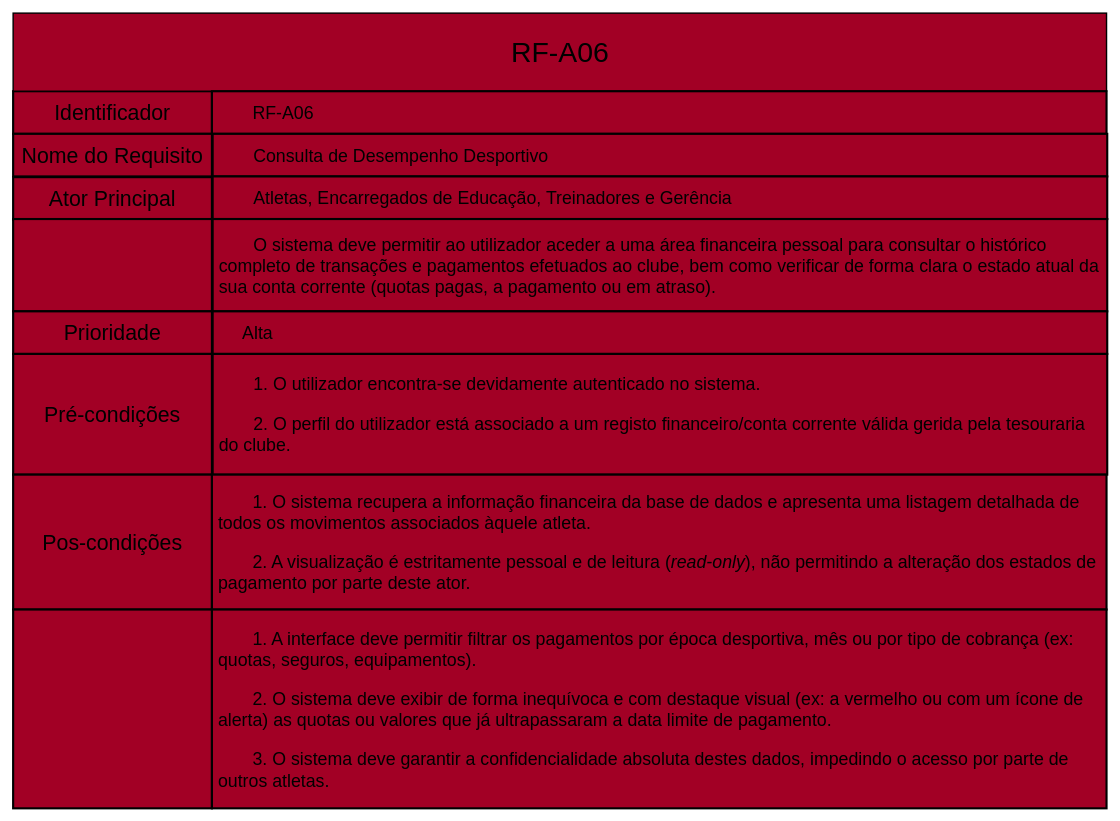
Some shapes in this 1120 by 821 pixel diagram are drawn without their labels. The box of each missing label's shape, as (x1, y1, x2, y2) in pixels:
Critérios de Aceitação: (12, 608, 213, 809)
Descrição: (12, 218, 213, 312)
